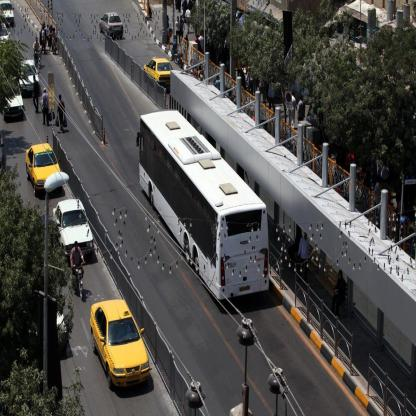Bus: (135, 102, 275, 307)
Car: (85, 297, 153, 387), (52, 200, 96, 261), (29, 142, 60, 189), (143, 53, 172, 89), (1, 80, 26, 115), (100, 9, 122, 45), (19, 64, 40, 96), (0, 0, 16, 27)
